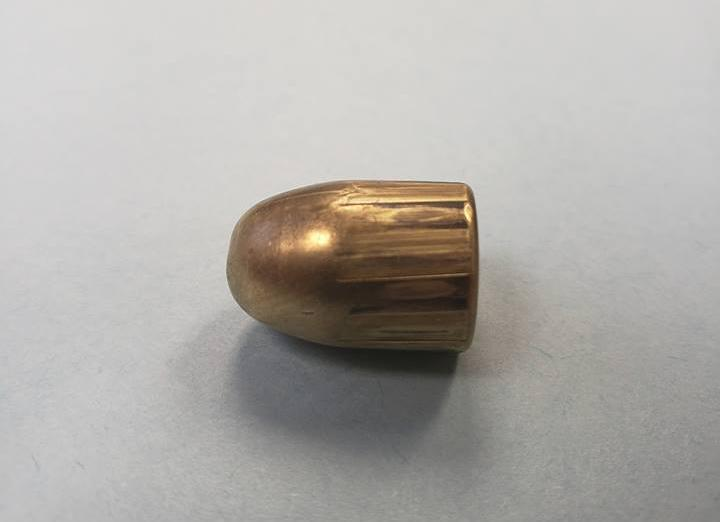Bullet: (224, 177, 502, 367)
